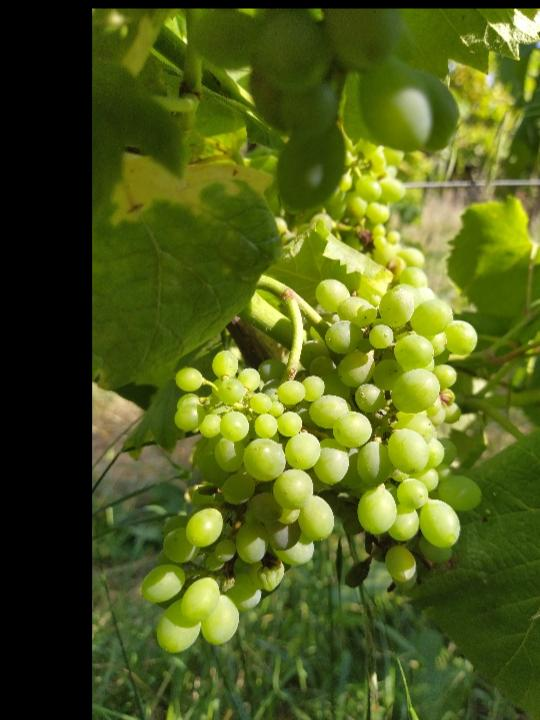grape: (139, 264, 482, 657)
